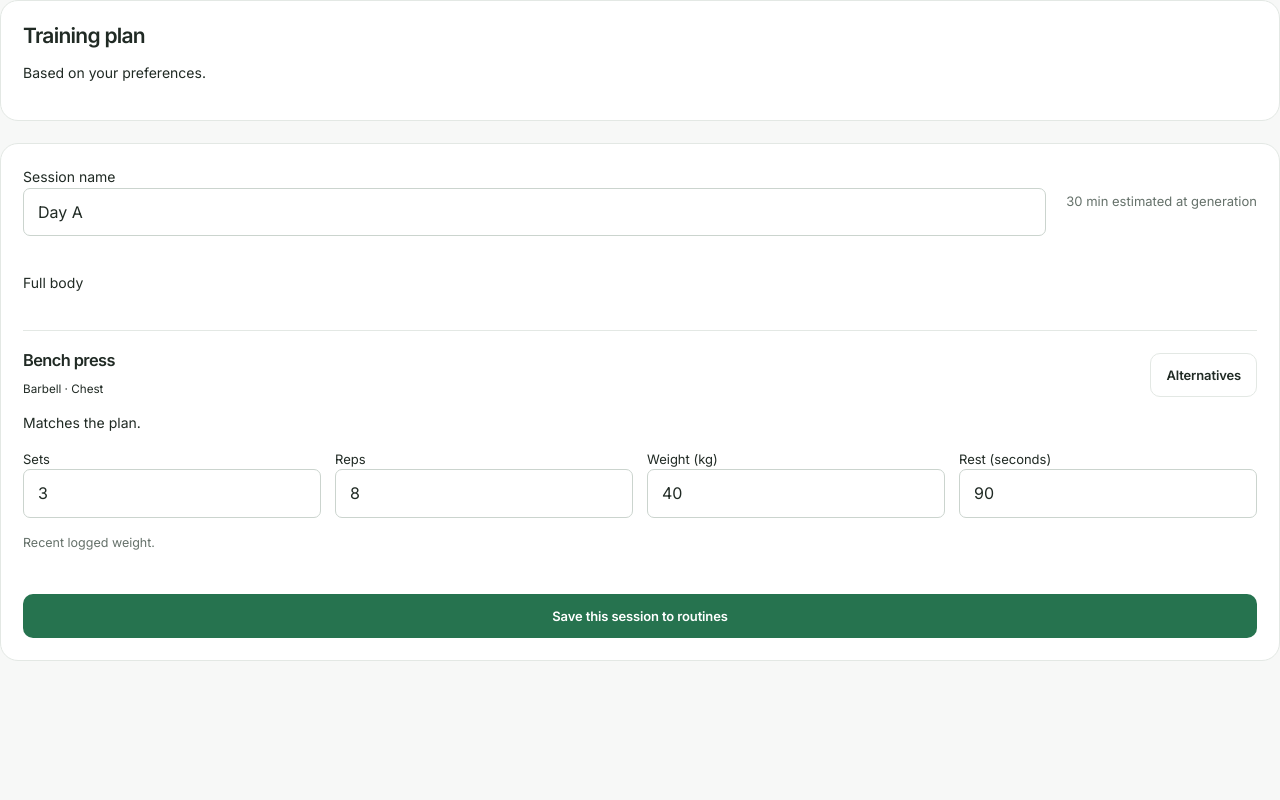
Test: replacement selection clears the old movement’s suggested load without a GPT request
Click the button "Alternatives": coordinates (1204, 375) [1150,353,1257,397]
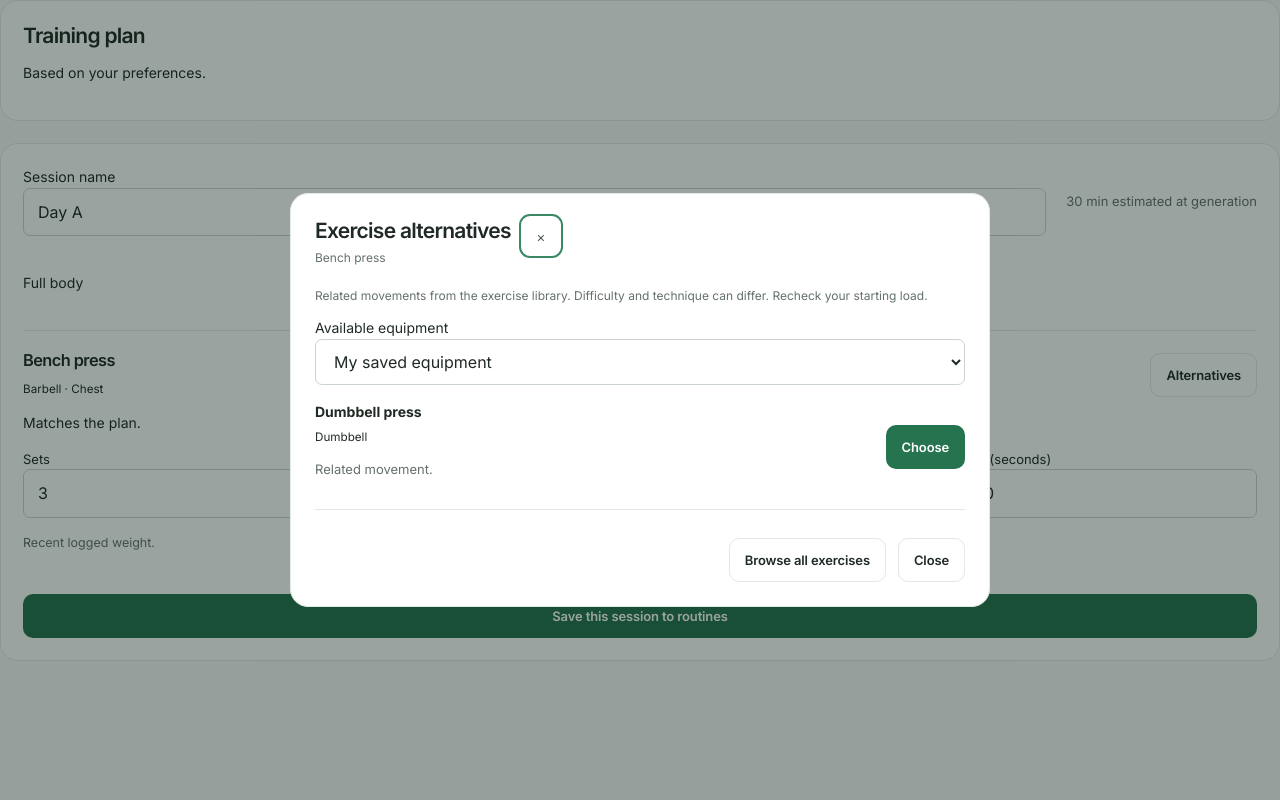
Result: the dialog is shown at [290,193,990,607]
Click the button "Choose": coordinates (925, 447) [886,425,965,469]
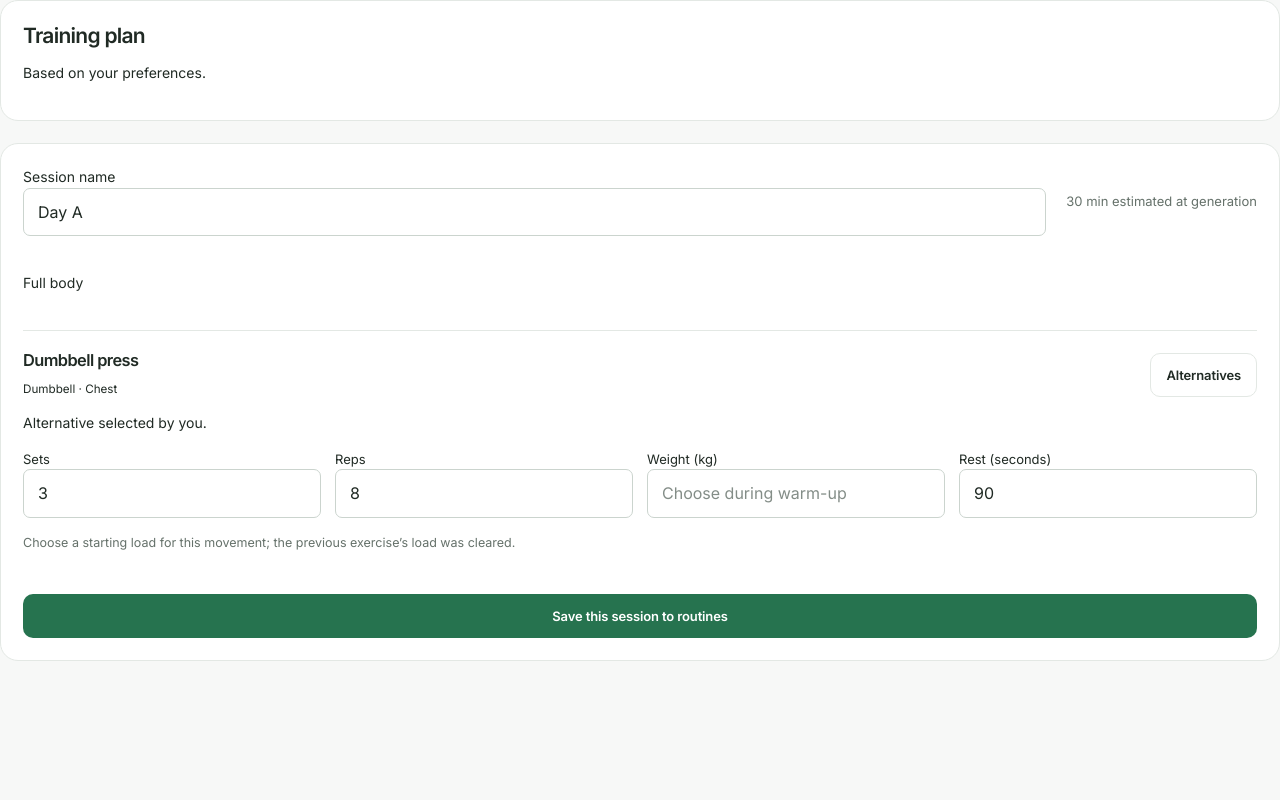
Result: the dialog is gone
Result: the number field labelled "Weight (kg)" is empty at [647,469,945,518]
Result: the heading "Dumbbell press" is shown at [23,351,138,371]
